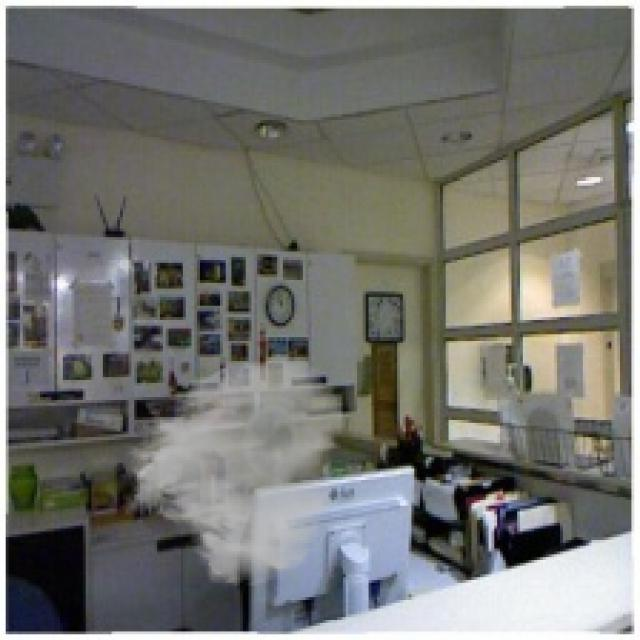smoke: (120, 352, 349, 588)
